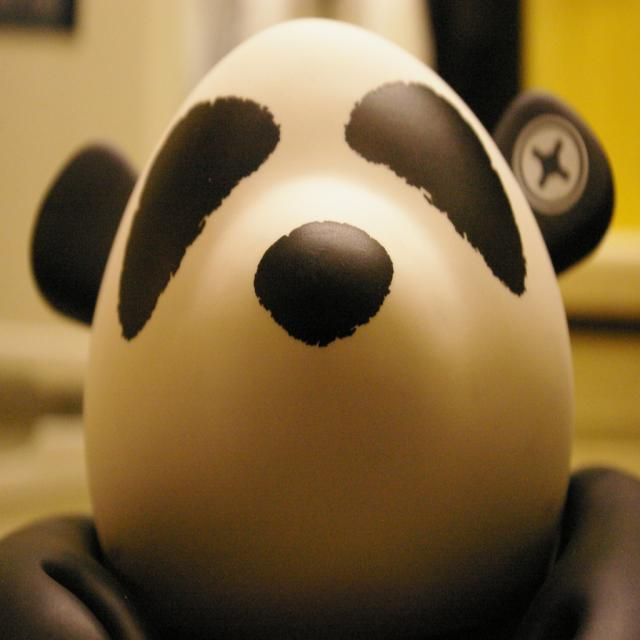panda: (0, 12, 640, 639)
